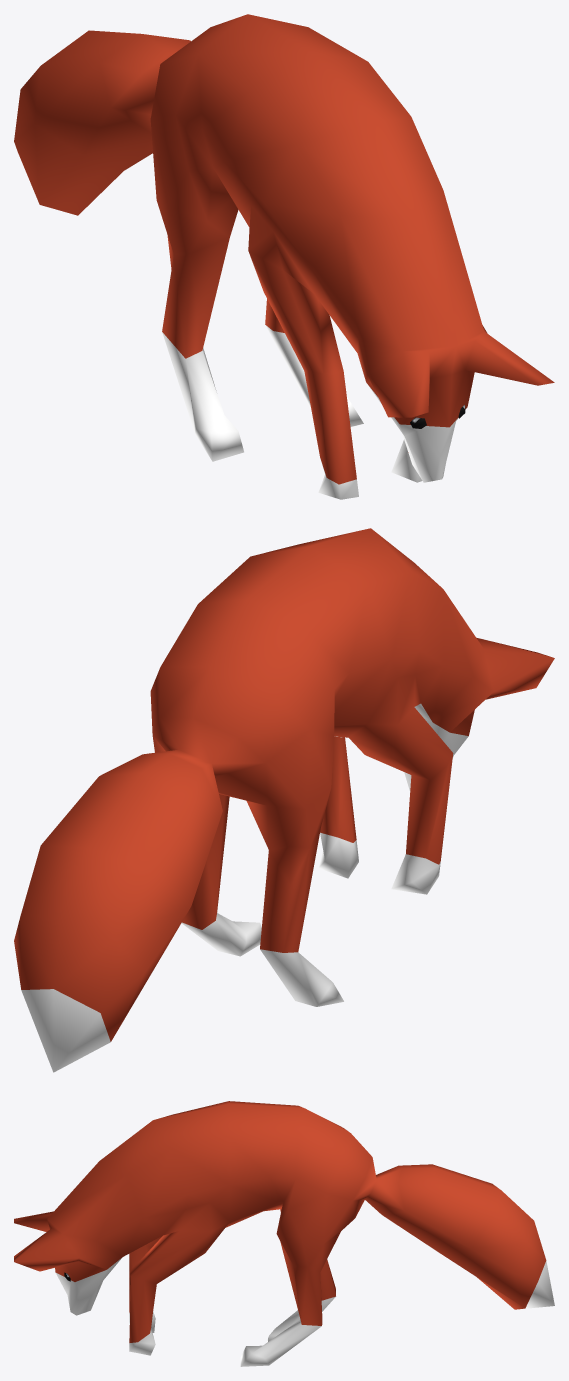
Rendered from 8aedd55d-05a4-4fca-8062-0fa606686968.glb.
The picture shows the model from 3 angles, top to bottom: view 1: azimuth 30°, elevation 25°; view 2: azimuth 150°, elevation 25°; view 3: azimuth 270°, elevation 25°; orthographic projection. The views are drawn at different scales.
Visible parts, largest first — view 1: Fox04; view 2: Fox04; view 3: Fox04.
Boxes of the visible parts, x1,y1,x2,y2 form: Fox04: (14, 14, 554, 499); Fox04: (14, 528, 554, 1072); Fox04: (14, 1101, 554, 1366).
Size of what is drawn, in the model's own units: 0.3193 by 0.762 by 1.45.
Materials: 1 (1 with a texture image).
